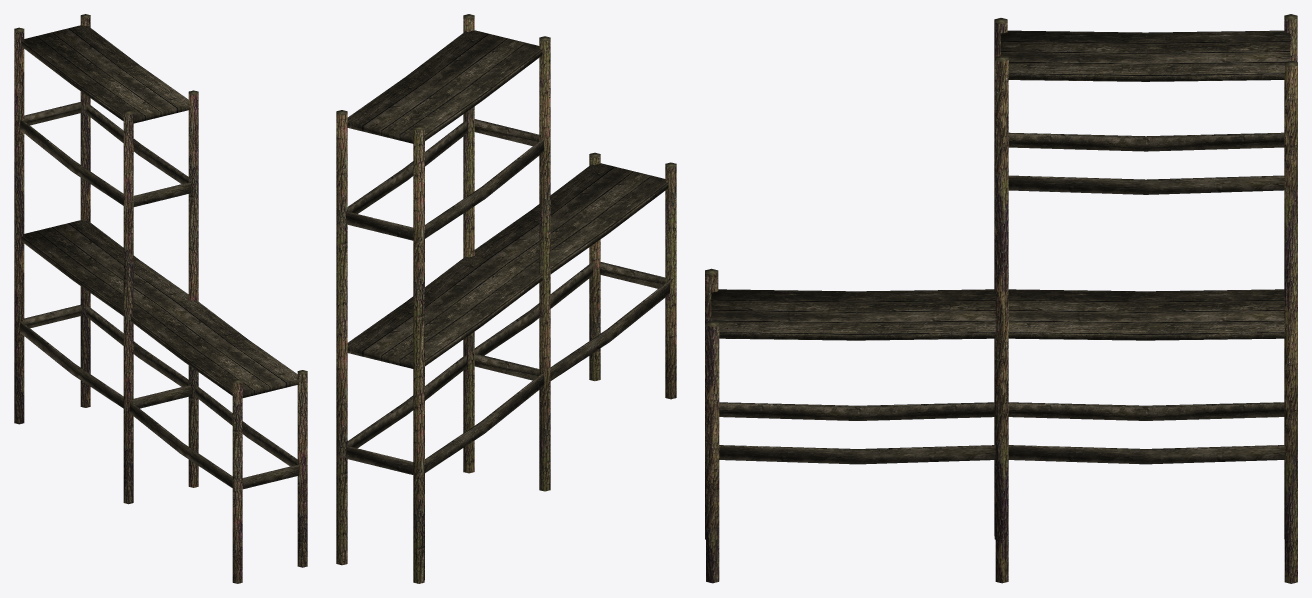
The model's file is GS_CITY_CONSTRUCTION_01.glb.
3 renders of one model, left to right at view 1: azimuth 30°, elevation 25°; view 2: azimuth 150°, elevation 25°; view 3: azimuth 270°, elevation 25°, orthographic. The views are drawn at different scales.
Visible parts, largest first — view 1: Mesh; view 2: Mesh; view 3: Mesh.
Part boxes in pixels (x1,y1,x2,y2): Mesh: (14,14,307,583); Mesh: (336,14,676,583); Mesh: (705,14,1297,583).
Bounding box in the file's own units: 1.36 × 6.68 × 6.88.
3 materials, 3 textured.
